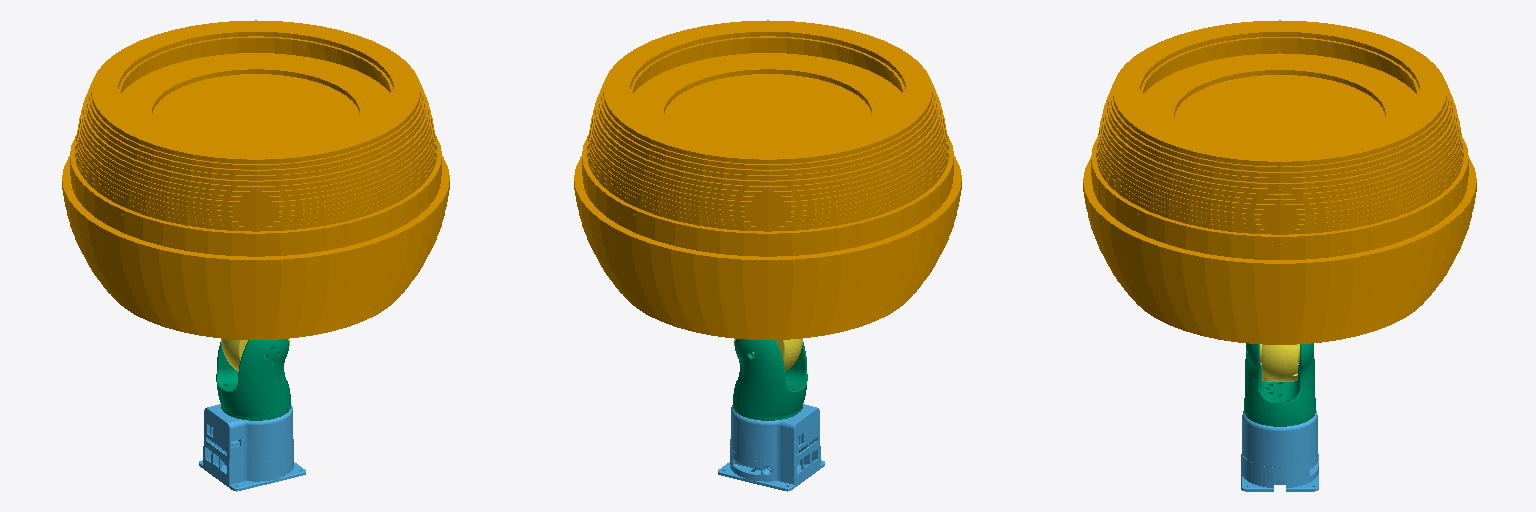
The robot description file, URDF, robot "myarm_reduced":
<?xml version="1.0" ?>
<robot name="myarm_reduced">
  <!-- GENERATED by tools/make_reduced_model.py. Do not edit by hand. -->
  <link name="world"/>
  <link name="base">
    <inertial>
      <origin xyz="0 0 0" rpy="0 0 0"/>
      <mass value="1.0"/>
      <inertia ixx="0.01" ixy="0.0" ixz="0.0" iyy="0.01" iyz="0.0" izz="0.01"/>
    </inertial>
    <visual>
      <geometry>
        <mesh filename="package://myarm_300_pi/meshes/base.stl"/>
      </geometry>
      <material name="white_arm"/>
    </visual>
    <collision>
      <geometry>
        <mesh filename="package://myarm_300_pi/meshes/base.stl"/>
      </geometry>
    </collision>
  </link>
  <link name="link1">
    <inertial>
      <origin xyz="0 0 0" rpy="0 0 0"/>
      <mass value="0.5"/>
      <inertia ixx="0.01" ixy="0.0" ixz="0.0" iyy="0.01" iyz="0.0" izz="0.01"/>
    </inertial>
    <visual>
      <geometry>
        <mesh filename="package://myarm_300_pi/meshes/j1.stl"/>
      </geometry>
      <origin rpy="0 0 0" xyz="0 0 -0.086"/>
      <material name="white_arm"/>
    </visual>
    <collision>
      <geometry>
        <mesh filename="package://myarm_300_pi/meshes/j1.stl"/>
      </geometry>
      <origin rpy="0 0 0" xyz="0 0 -0.086"/>
    </collision>
  </link>
  <link name="link2">
    <inertial>
      <origin xyz="0 0 0" rpy="0 0 0"/>
      <mass value="0.5"/>
      <inertia ixx="0.01" ixy="0.0" ixz="0.0" iyy="0.01" iyz="0.0" izz="0.01"/>
    </inertial>
    <visual>
      <geometry>
        <mesh filename="package://myarm_300_pi/meshes/j2.stl"/>
      </geometry>
      <origin rpy="3.14159 0 -1.5708" xyz="0 0 0"/>
      <material name="white_arm"/>
    </visual>
    <collision>
      <geometry>
        <mesh filename="package://myarm_300_pi/meshes/j2.stl"/>
      </geometry>
      <origin rpy="3.14159 0 -1.5708" xyz="0 0 0"/>
    </collision>
  </link>
  <link name="link3">
    <inertial>
      <origin xyz="0 0 0" rpy="0 0 0"/>
      <mass value="0.5"/>
      <inertia ixx="0.01" ixy="0.0" ixz="0.0" iyy="0.01" iyz="0.0" izz="0.01"/>
    </inertial>
    <visual>
      <geometry>
        <mesh filename="package://myarm_300_pi/meshes/j3.stl"/>
      </geometry>
      <origin rpy="0 0 0" xyz="0 0 -0.056"/>
      <material name="white_arm"/>
    </visual>
    <collision>
      <geometry>
        <mesh filename="package://myarm_300_pi/meshes/j3.stl"/>
      </geometry>
      <origin rpy="0 0 0" xyz="0 0 -0.056"/>
    </collision>
  </link>
  <link name="link4">
    <inertial>
      <origin xyz="0 0 0" rpy="0 0 0"/>
      <mass value="0.5"/>
      <inertia ixx="0.01" ixy="0.0" ixz="0.0" iyy="0.01" iyz="0.0" izz="0.01"/>
    </inertial>
    <visual>
      <geometry>
        <mesh filename="package://myarm_300_pi/meshes/j4.stl"/>
      </geometry>
      <origin rpy="0 0 1.5708" xyz="0 0 0"/>
      <material name="white_arm"/>
    </visual>
    <collision>
      <geometry>
        <mesh filename="package://myarm_300_pi/meshes/j4.stl"/>
      </geometry>
      <origin rpy="0 0 1.5708" xyz="0 0 0"/>
    </collision>
  </link>
  <joint name="virtual_fixed_joint" type="fixed">
    <parent link="world"/>
    <child link="base"/>
    <origin xyz="0 0 0" rpy="0 0 0"/>
  </joint>
  <joint name="joint1" type="revolute">
    <axis xyz="0 0 1"/>
    <limit effort="1000.0" lower="-2.7925" upper="2.7925" velocity="2.0"/>
    <parent link="base"/>
    <child link="link1"/>
    <origin rpy="0 0 0" xyz="0 0 0.1695"/>
  </joint>
  <joint name="joint2" type="revolute">
    <axis xyz="0 0 1"/>
    <limit effort="1000.0" lower="-1.2217" upper="2.0071" velocity="2.0"/>
    <parent link="link1"/>
    <child link="link2"/>
    <origin rpy="-1.5708 0 0" xyz="0 0 0"/>
  </joint>
  <joint name="joint3" type="revolute">
    <axis xyz="0 0 1"/>
    <limit effort="1000.0" lower="-2.9670" upper="2.9670" velocity="2.0"/>
    <parent link="link2"/>
    <child link="link3"/>
    <origin rpy="1.5708 0 0" xyz="0 -0.1155 0"/>
  </joint>
  <joint name="joint4" type="revolute">
    <axis xyz="0 0 1"/>
    <limit effort="1000.0" lower="-1.9722" upper="1.3089" velocity="2.0"/>
    <parent link="link3"/>
    <child link="link4"/>
    <origin rpy="1.5708 0 0" xyz="0 0 0"/>
  </joint>
  <link name="wrist_center"/>
  <joint name="wrist_center_fixed" type="fixed">
    <parent link="link4"/>
    <child link="wrist_center"/>
    <origin xyz="0 0.1278 0" rpy="-1.5708 0 0"/>
  </joint>
  <link name="blob_align_link"/>
  <joint name="blob_align_x" type="continuous">
    <parent link="wrist_center"/>
    <child link="blob_align_link"/>
    <origin xyz="0 0 0" rpy="0 0 0"/>
    <axis xyz="1 0 0"/>
  </joint>
  <joint name="blob_align_y" type="continuous">
    <parent link="blob_align_link"/>
    <child link="wrist_blob"/>
    <origin xyz="0 0 0" rpy="0 0 0"/>
    <axis xyz="0 1 0"/>
  </joint>
  <link name="wrist_blob">
    <visual>
      <geometry>
        <mesh filename="package://my_robot_control/generated/wrist_blob_carry.stl"/>
      </geometry>
    </visual>
    <collision>
      <geometry>
        <mesh filename="package://my_robot_control/generated/wrist_blob_carry.stl"/>
      </geometry>
    </collision>
    <inertial>
      <mass value="0.001"/>
      <inertia ixx="1e-6" ixy="0" ixz="0" iyy="1e-6" iyz="0" izz="1e-6"/>
    </inertial>
  </link>
</robot>

--- What the picture shows (computed from the rendered views, not written in the file) ---
The picture shows the robot from 3 angles, left to right: view 1: azimuth 30°, elevation 25°; view 2: azimuth 150°, elevation 25°; view 3: azimuth 270°, elevation 25°; orthographic projection.
Robot: myarm_reduced — 9 links, 8 joints (4 revolute, 2 continuous, 2 fixed); root link world; default pose: all joints at 0.
Visible links, largest first — view 1: wrist_blob, base, link1, link2; view 2: wrist_blob, base, link1, link2; view 3: wrist_blob, base, link1, link2.
Link boxes in pixels (x1,y1,x2,y2): wrist_blob: (62, 20, 449, 339); base: (199, 404, 305, 491); link1: (216, 339, 290, 420); link2: (221, 338, 289, 371); wrist_blob: (574, 20, 961, 339); base: (718, 404, 824, 491); link1: (733, 339, 807, 420); link2: (734, 338, 802, 371); wrist_blob: (1083, 20, 1476, 344); base: (1241, 411, 1318, 491); link1: (1244, 343, 1315, 426); link2: (1260, 344, 1299, 381).
Size in the robot's own frame: 0.4731 by 0.4731 by 0.5092 metres.
Meshes: 6 distinct files referenced, 6 mesh visuals loaded (6 binary STL).
